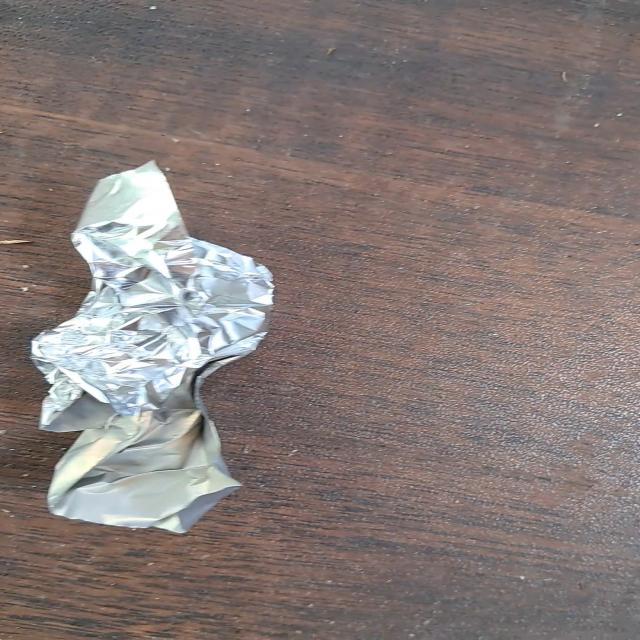Anorganik: (31, 159, 274, 534)
